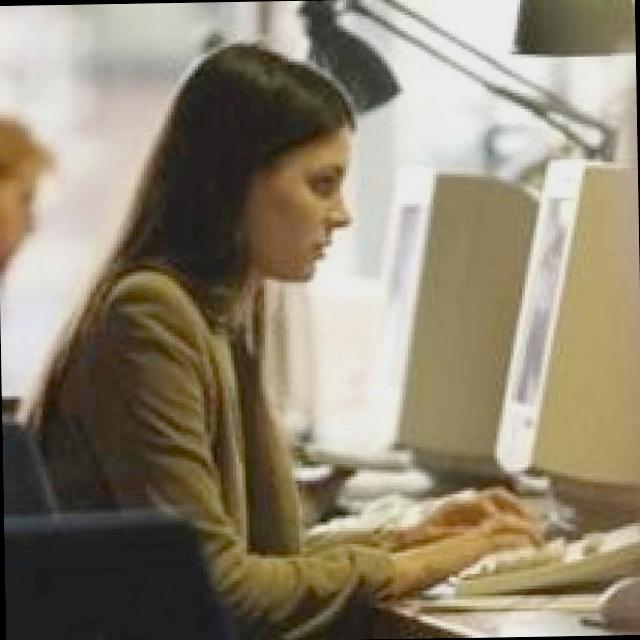no_vest: (24, 270, 289, 599)
